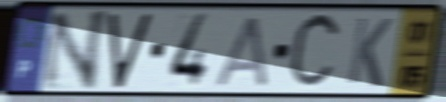4: (165, 10, 212, 92)
A: (213, 14, 270, 90)
C: (285, 9, 344, 95)
K: (344, 15, 395, 90)
N: (38, 8, 113, 93)
V: (106, 10, 156, 91)
